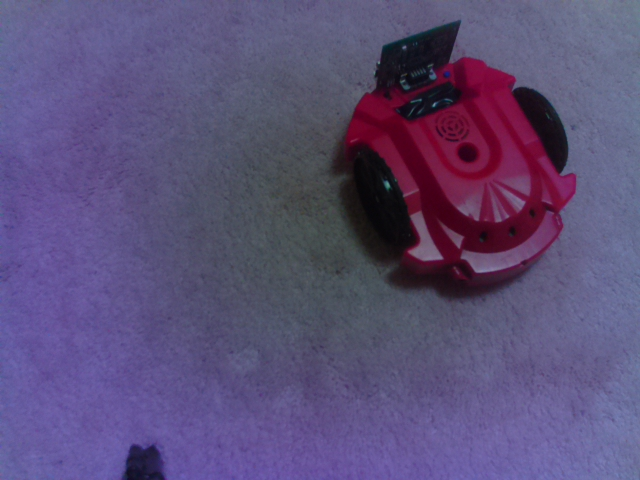chassis: (340, 18, 580, 288)
